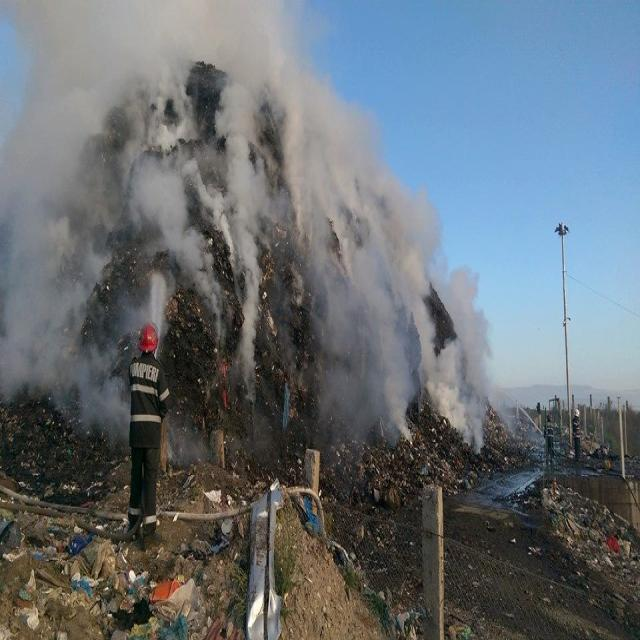Smoke: (227, 0, 483, 453), (0, 0, 212, 410)
